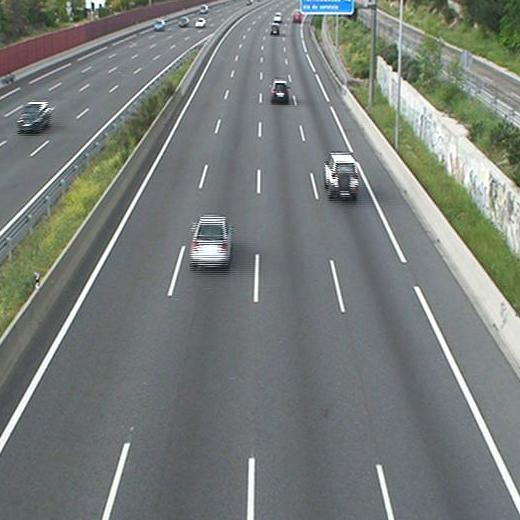car: (191, 216, 230, 265), (324, 154, 357, 197), (271, 82, 289, 102), (273, 12, 282, 23), (270, 24, 279, 34)
van: (292, 11, 300, 23)
